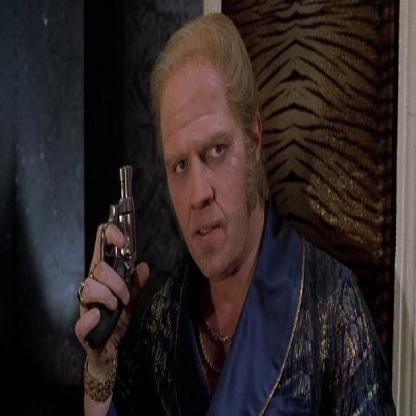Pistol: (73, 159, 144, 355)
